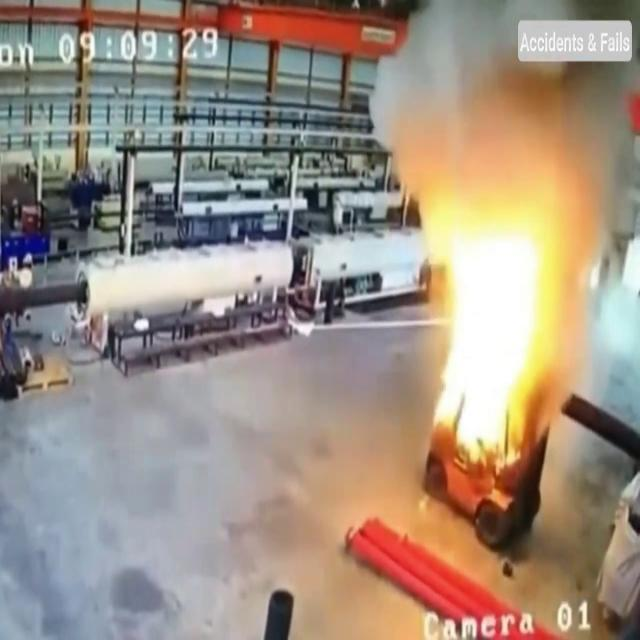Fire: (426, 183, 560, 477)
Smoke: (358, 0, 638, 221)
